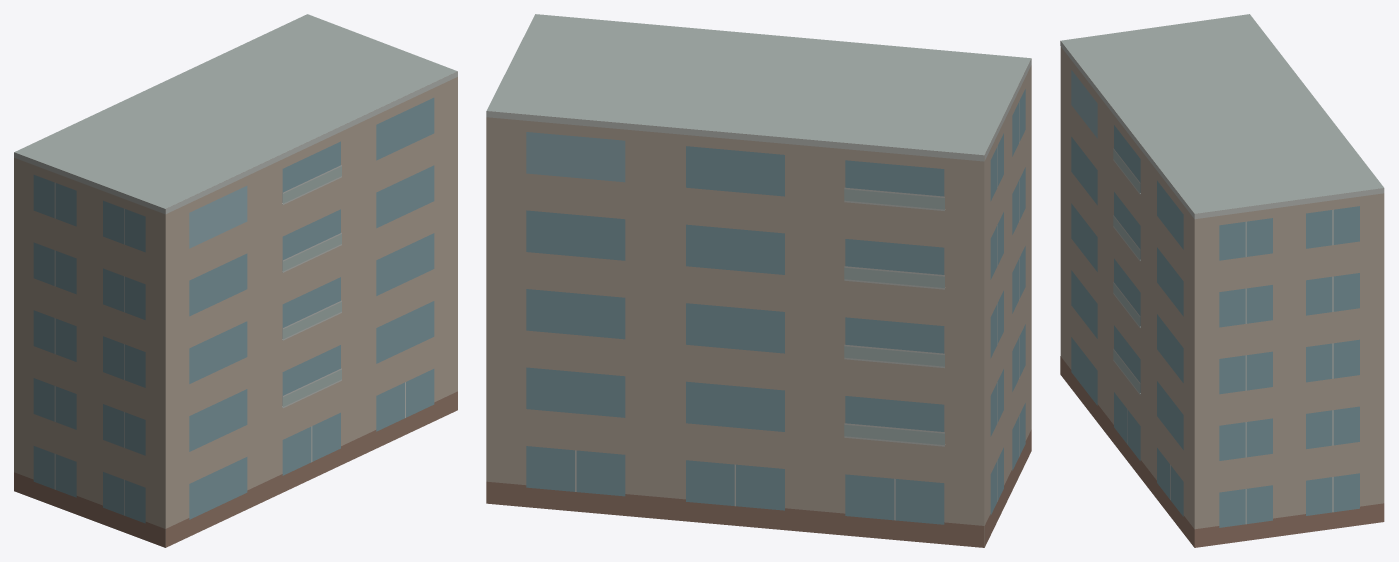
The model's file is survey-upis-32612268.glb.
3 views of the same model, side by side, from view 1: azimuth 30°, elevation 25°; view 2: azimuth 150°, elevation 25°; view 3: azimuth 270°, elevation 25° (orthographic). The views are drawn at different scales.
Parts seen in each view (by area): view 1: survey-upis-32612268.tmp; view 2: survey-upis-32612268.tmp; view 3: survey-upis-32612268.tmp.
Boxes of the visible parts, x1,y1,x2,y2 form: survey-upis-32612268.tmp: (14,14,457,547); survey-upis-32612268.tmp: (486,14,1031,547); survey-upis-32612268.tmp: (1060,14,1384,547).
Size of the model in its own units: 19.59 by 15.25 by 13.41.
